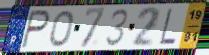2: (131, 6, 162, 48)
3: (105, 8, 130, 48)
7: (81, 7, 108, 50)
L: (158, 7, 177, 46)
O: (48, 9, 75, 48)
P: (20, 9, 52, 51)
